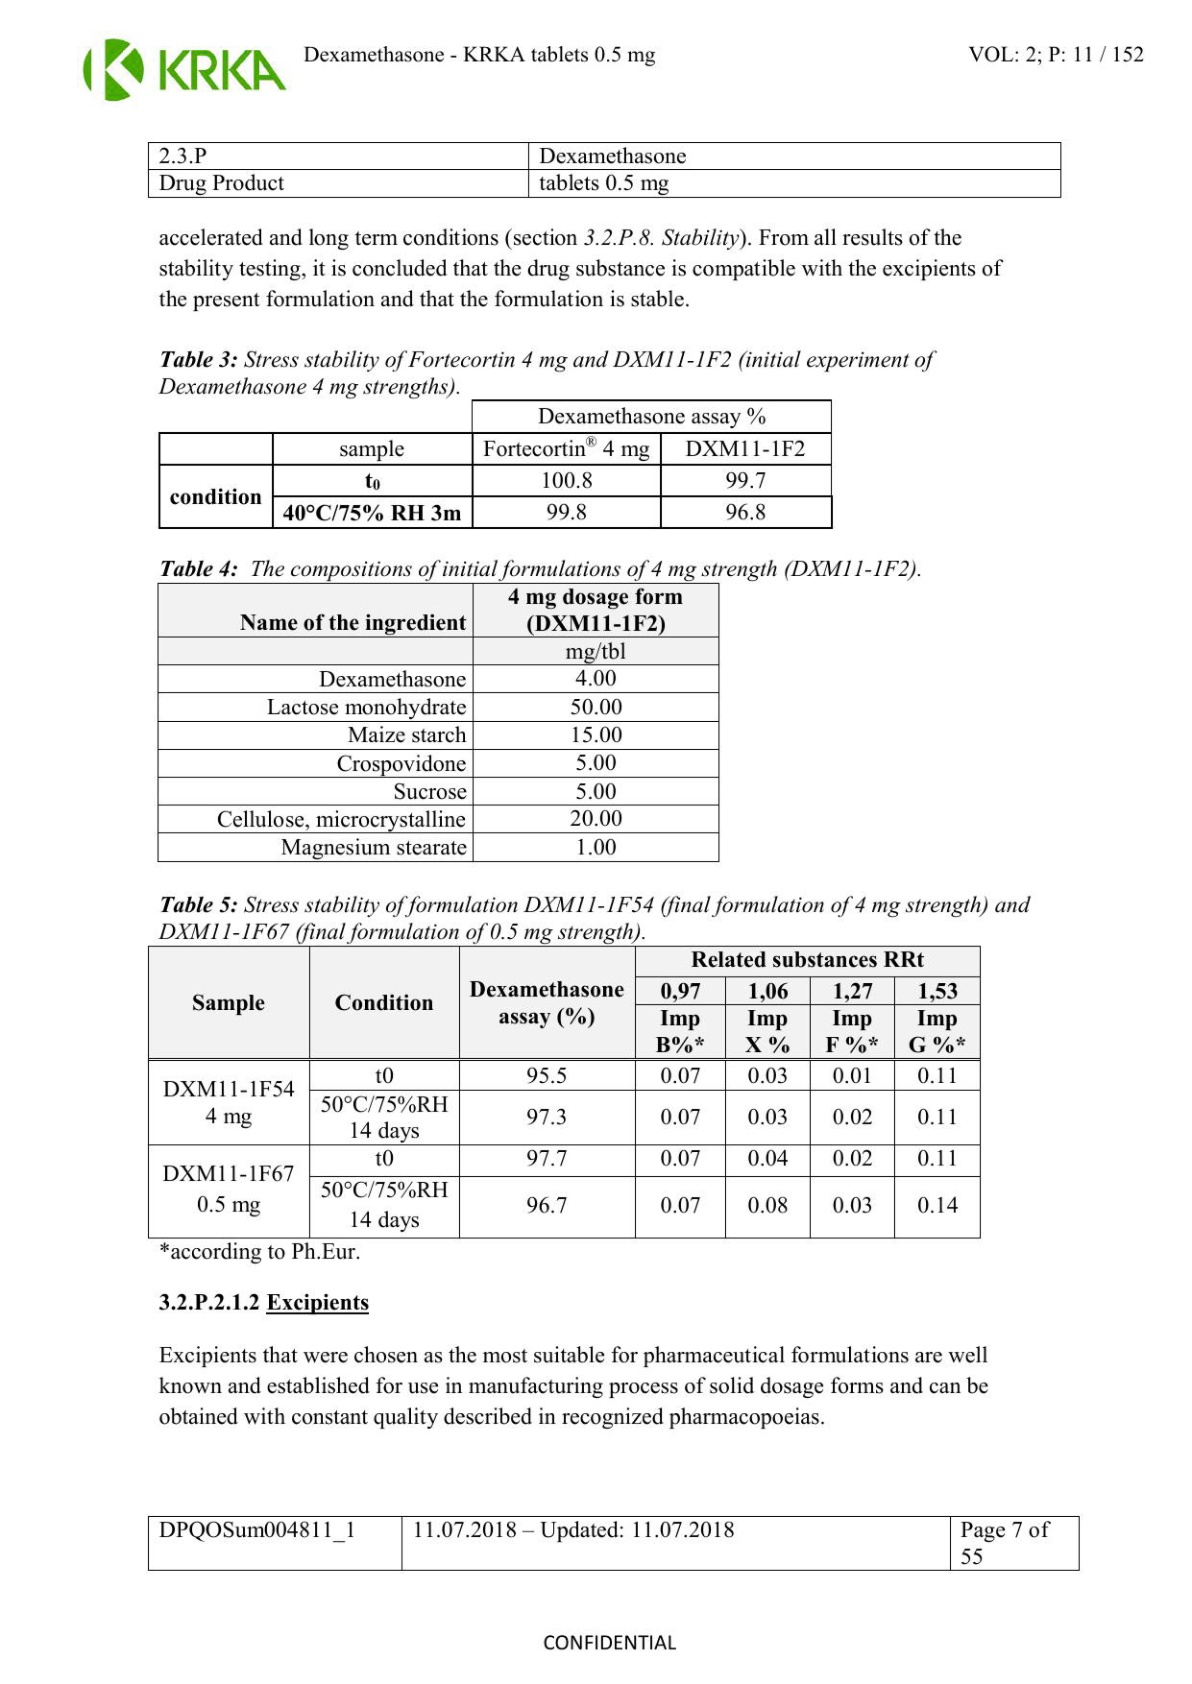full_lined: (156, 583, 721, 864), (146, 1514, 1081, 1572), (146, 141, 1064, 199)
merged_cells: (147, 943, 982, 1240), (157, 398, 833, 529)
